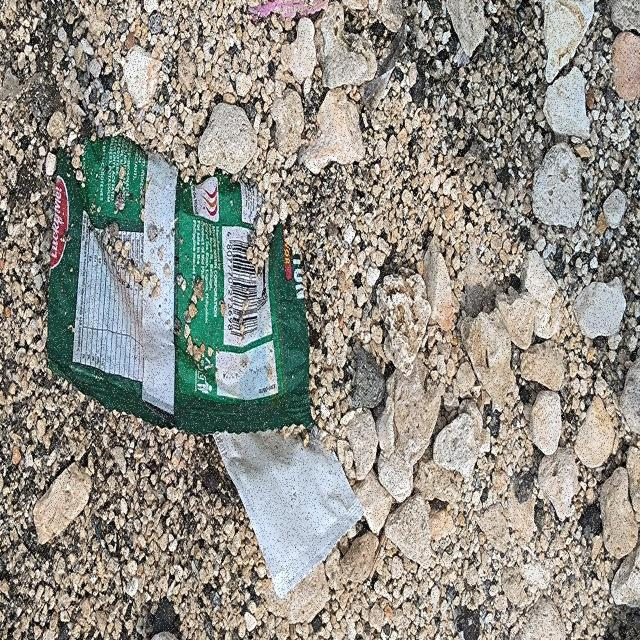plastic_waste: (47, 135, 314, 435), (213, 431, 367, 609)
